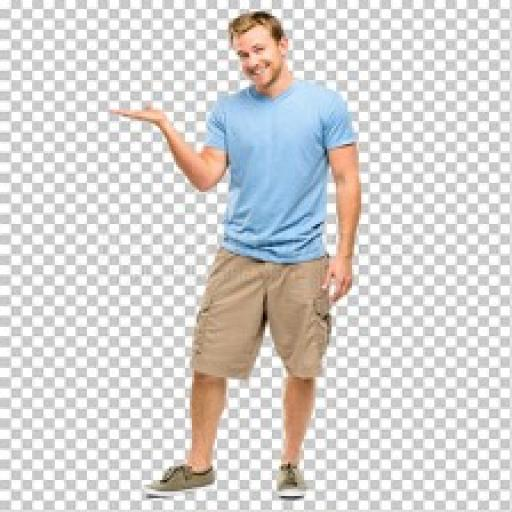human: (108, 7, 374, 500)
